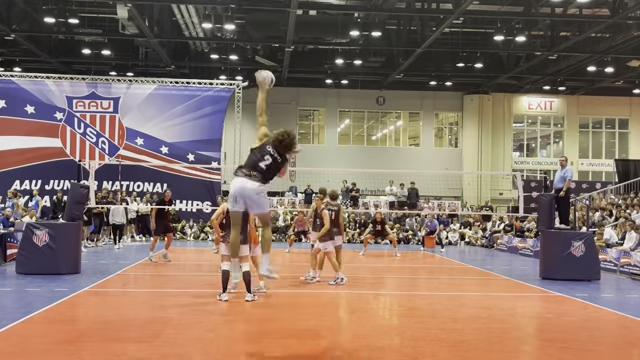battuta: (225, 68, 296, 284)
